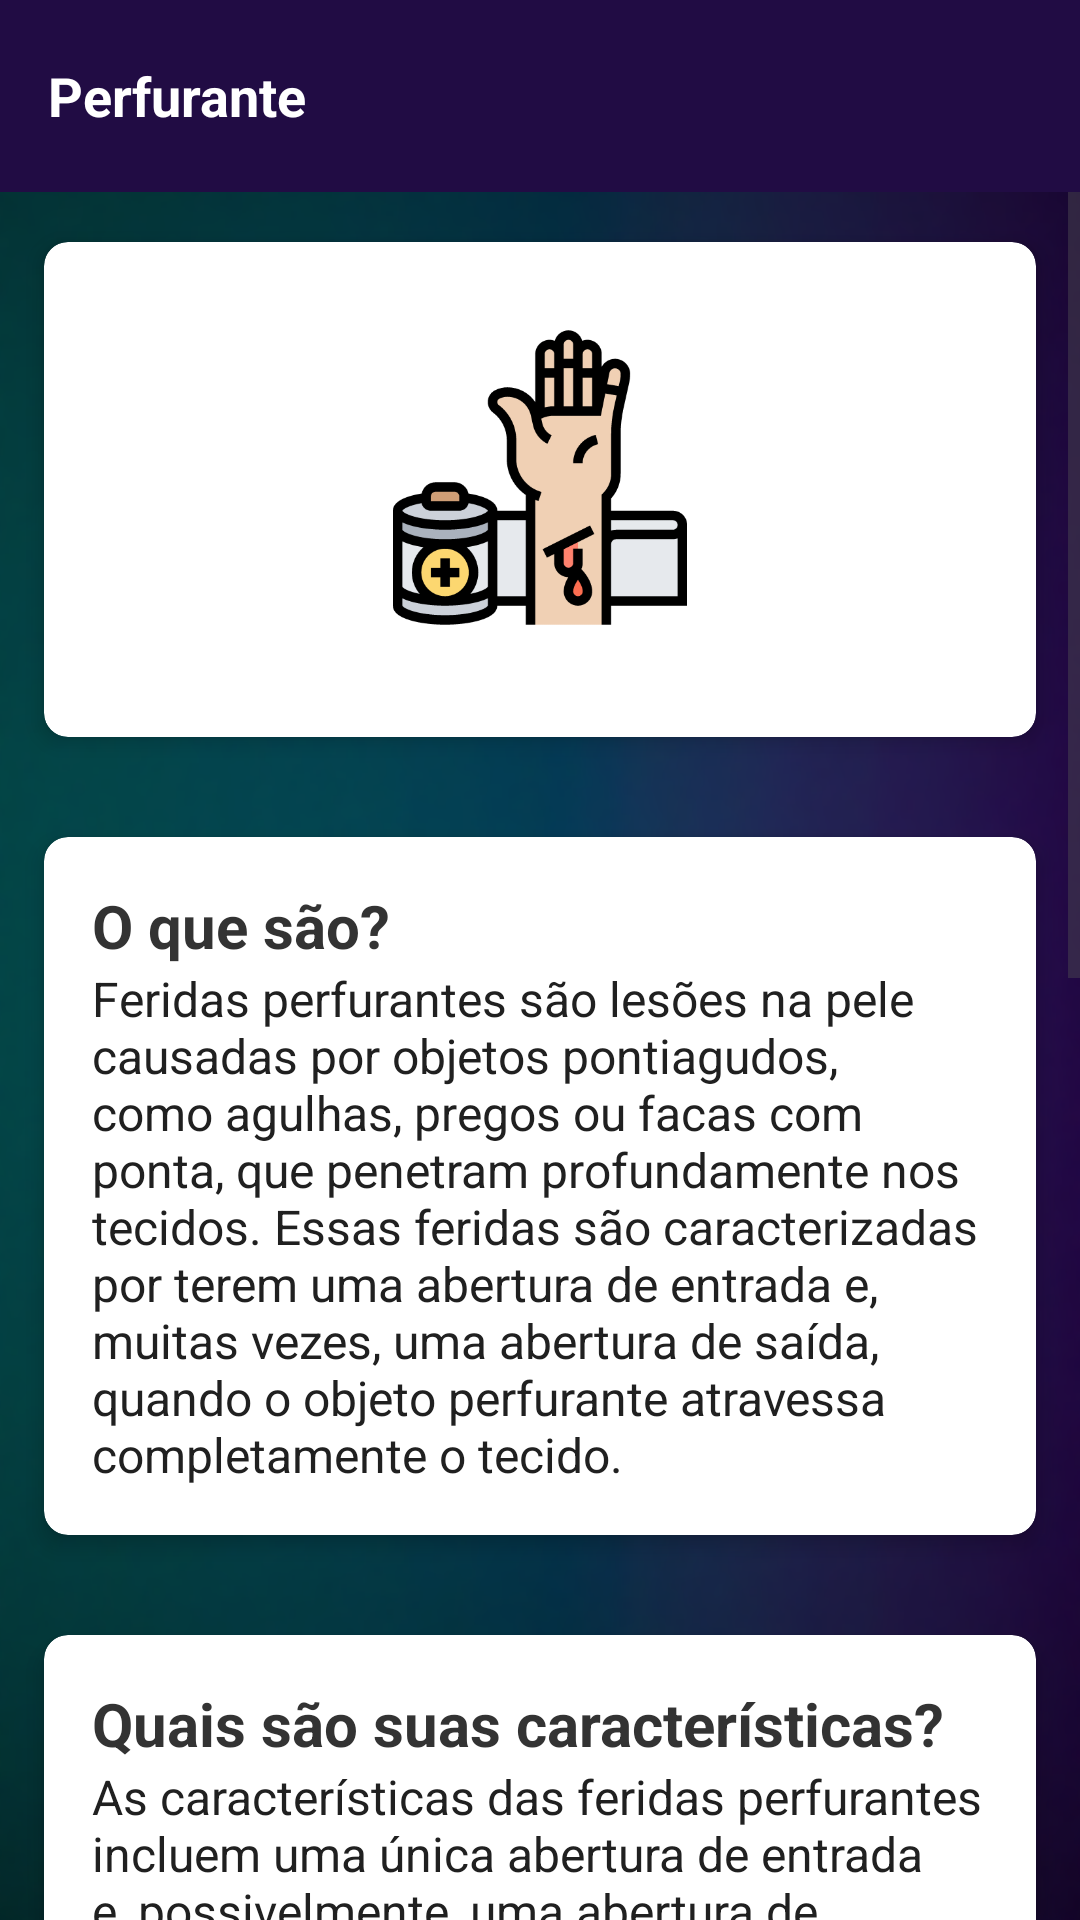

Icons on this 1080×1920 Android screen, each with the point to tap as [x,y]:
feridaperfurante: [540,477]
